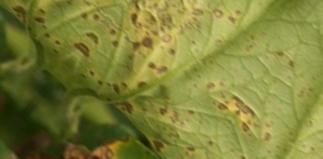Tomato Septoria leaf spot: (49, 0, 323, 159), (29, 111, 172, 159)
